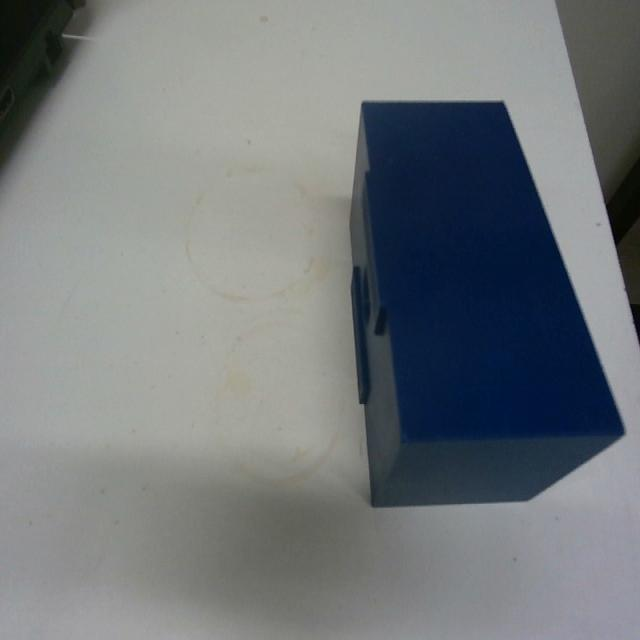Blue Cuboid: (346, 95, 626, 508)
